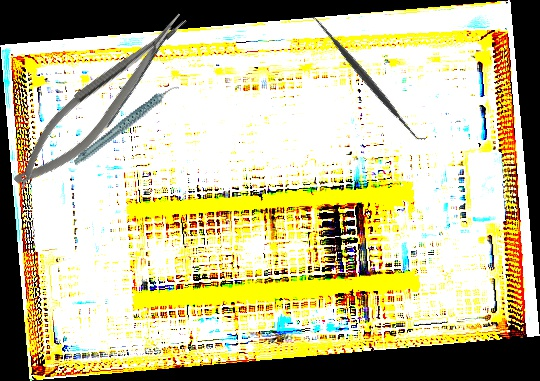Handpiece: (62, 83, 192, 168)
Needle Holder: (0, 4, 204, 200)
Spatula Surgical: (305, 8, 429, 149)
